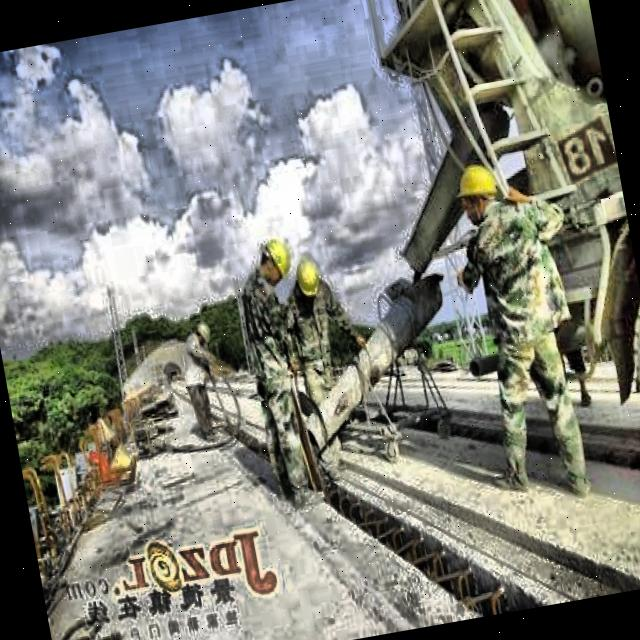helmet: (248, 224, 300, 292), (452, 161, 505, 225), (290, 247, 326, 306), (192, 316, 216, 348)
